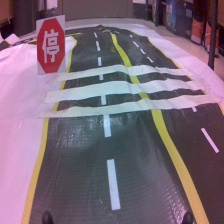stop: (36, 14, 67, 77)
